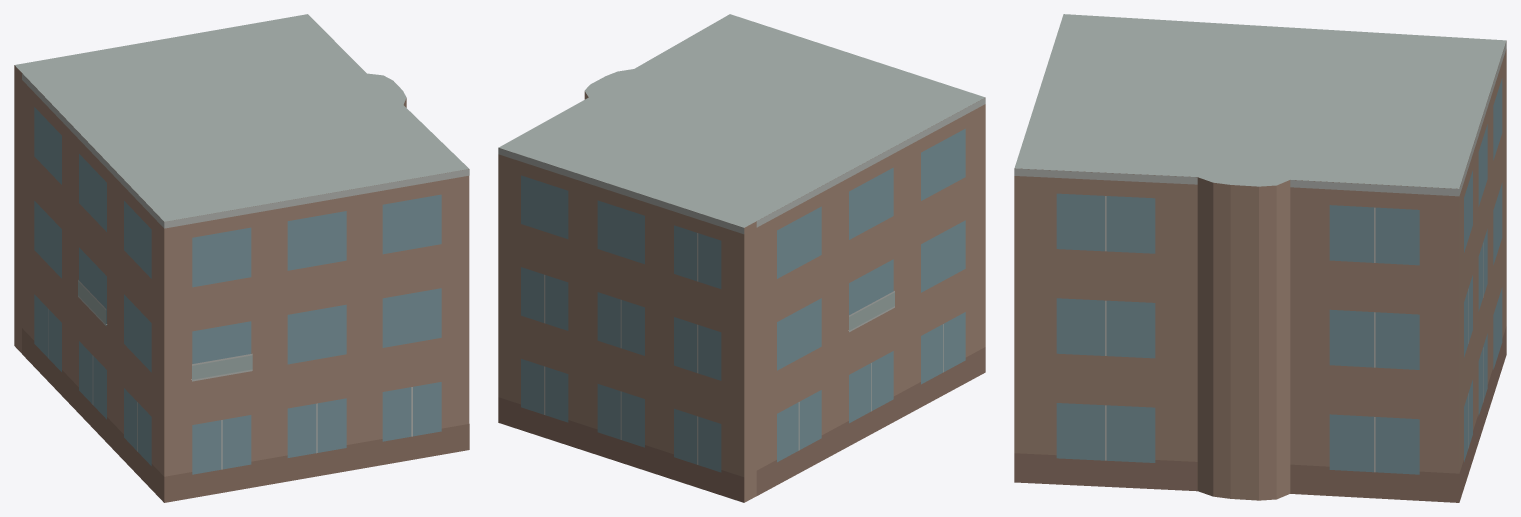
Rendered from survey-upis-32493917.glb.
The picture shows the model from 3 angles, left to right: view 1: azimuth 30°, elevation 25°; view 2: azimuth 150°, elevation 25°; view 3: azimuth 270°, elevation 25°; orthographic projection. The views are drawn at different scales.
Parts seen in each view (by area): view 1: survey-upis-32493917.tmp; view 2: survey-upis-32493917.tmp; view 3: survey-upis-32493917.tmp.
Boxes of the visible parts, left/top/right/bottom form: survey-upis-32493917.tmp: left=14, top=14, right=469, bottom=502; survey-upis-32493917.tmp: left=498, top=14, right=985, bottom=502; survey-upis-32493917.tmp: left=1014, top=14, right=1506, bottom=502.
Size of the model in its own units: 12.19 by 10.2 by 14.5.
